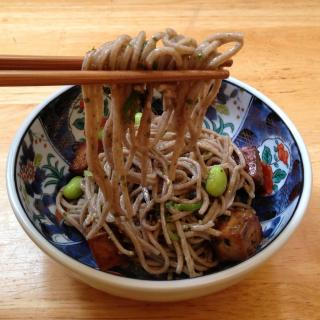Pasta: (58, 26, 241, 278)
